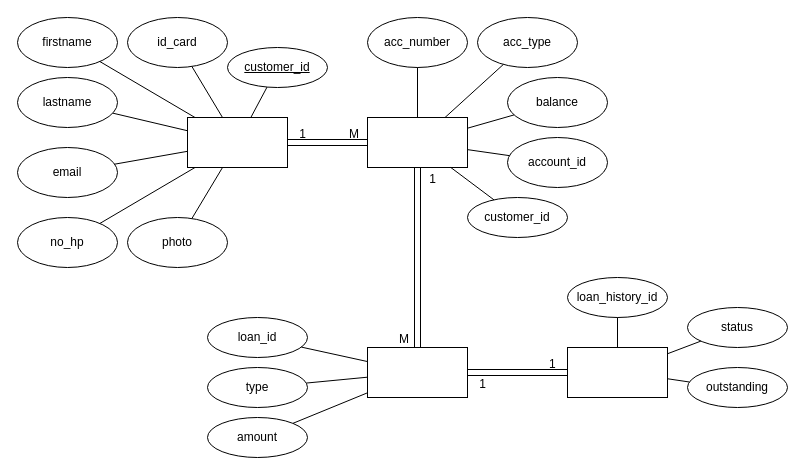
This 805x475 diagram has some shape labels left out. The shapes that lost their labels are listed below. From the top down, each one's centre as x and y in pixels, then its label:
point 237,142: Customer
point 417,142: Account
point 417,372: Loan
point 617,372: Loan History
